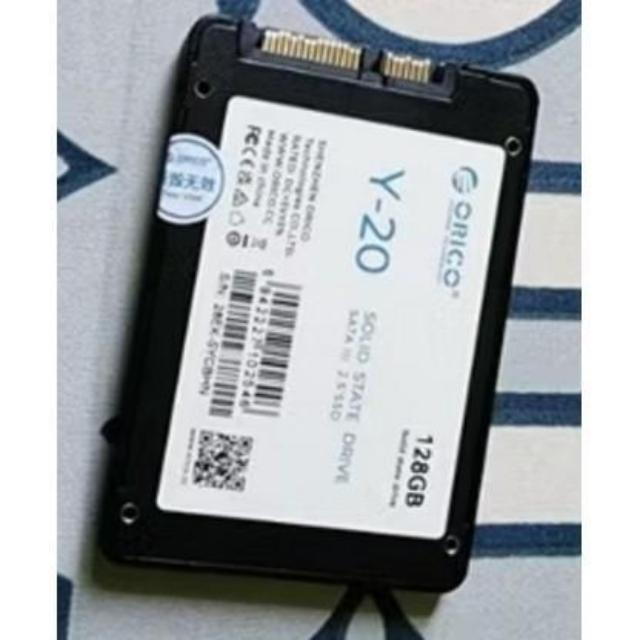DISK: (124, 15, 536, 600)
